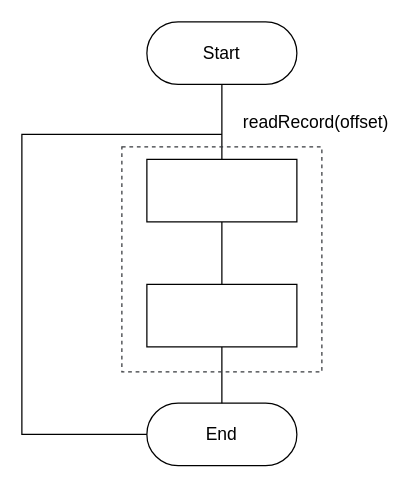
This 419x488 diagram has some shape labels left out. Each missing label, with the centre of its shape:
writeRecord (offset): (x=221, y=315)
切片上传: (x=221, y=190)
